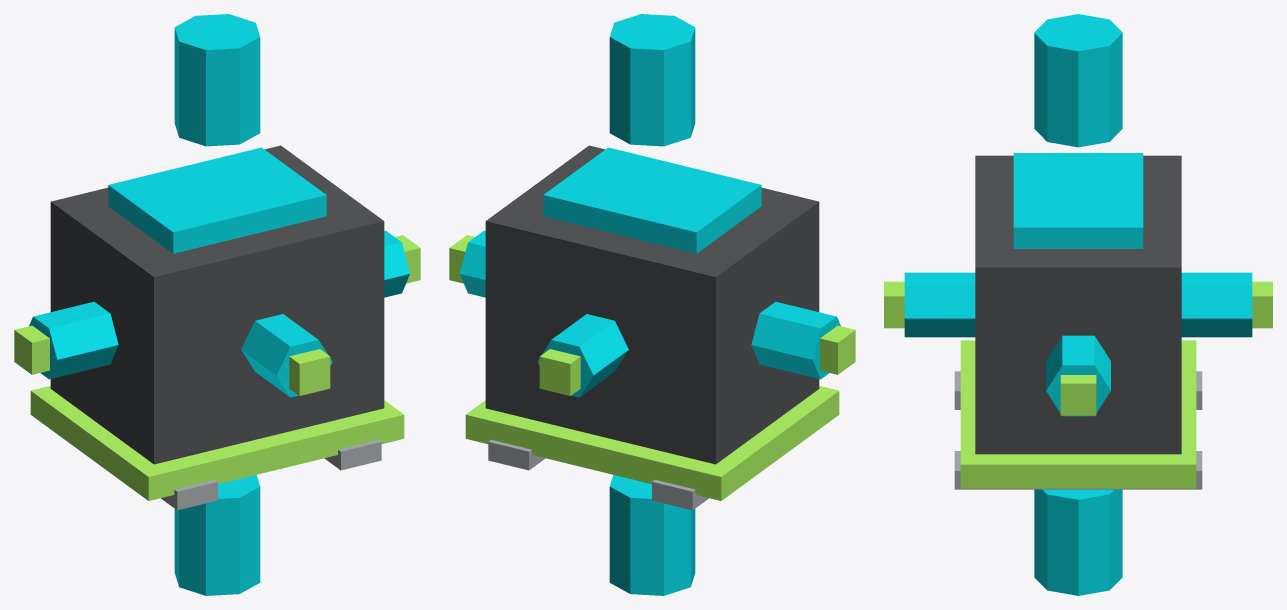
Rendered from rcs_pod_4way_mk1.glb.
3 views of the same model, side by side, from view 1: azimuth 30°, elevation 25°; view 2: azimuth 150°, elevation 25°; view 3: azimuth 270°, elevation 25° (orthographic).
Parts seen in each view (by area): view 1: GEO_RCS_Pod_Body, GEO_RCS_Pod_Cyan_Top, GEO_RCS_Pod_Blank_MountPlate_Underside, GEO_RCS_Nozzle_Up, GEO_RCS_Nozzle_Down, GEO_RCS_Nozzle_Left, GEO_RCS_Nozzle_Back, VIS_PART_RCS_Pod_4Way_Mk1_RCS_NOZZLE_BACK, VIS_PART_RCS_Pod_4Way_Mk1_RCS_NOZZLE_LEFT, GEO_RCS_Nozzle_Right, GEO_RCS_Pod_Mount_Rails_ForeAft_R, GEO_RCS_Pod_Mount_Rails_ForeAft (+1 smaller); view 2: GEO_RCS_Pod_Body, GEO_RCS_Pod_Cyan_Top, GEO_RCS_Pod_Blank_MountPlate_Underside, GEO_RCS_Nozzle_Up, GEO_RCS_Nozzle_Down, GEO_RCS_Nozzle_Left, GEO_RCS_Nozzle_Forward, VIS_PART_RCS_Pod_4Way_Mk1_RCS_NOZZLE_FORWARD, VIS_PART_RCS_Pod_4Way_Mk1_RCS_NOZZLE_LEFT, GEO_RCS_Nozzle_Right, GEO_RCS_Pod_Mount_Rails_ForeAft_R, GEO_RCS_Pod_Mount_Rails_ForeAft (+1 smaller); view 3: GEO_RCS_Pod_Body, GEO_RCS_Pod_Cyan_Top, GEO_RCS_Pod_Blank_MountPlate_Underside, GEO_RCS_Nozzle_Up, GEO_RCS_Nozzle_Down, GEO_RCS_Nozzle_Back, GEO_RCS_Nozzle_Forward, GEO_RCS_Nozzle_Right, VIS_PART_RCS_Pod_4Way_Mk1_RCS_NOZZLE_RIGHT, GEO_RCS_Pod_Mount_Rails_ForeAft_R, VIS_PART_RCS_Pod_4Way_Mk1_RCS_NOZZLE_BACK, VIS_PART_RCS_Pod_4Way_Mk1_RCS_NOZZLE_FORWARD (+1 smaller).
Part boxes in pixels (bbox=[...]): GEO_RCS_Pod_Body: bbox=[50, 145, 384, 464]; GEO_RCS_Pod_Cyan_Top: bbox=[108, 147, 326, 253]; GEO_RCS_Pod_Blank_MountPlate_Underside: bbox=[30, 386, 404, 500]; GEO_RCS_Nozzle_Up: bbox=[174, 14, 260, 146]; GEO_RCS_Nozzle_Down: bbox=[174, 475, 260, 595]; GEO_RCS_Nozzle_Left: bbox=[29, 301, 118, 379]; GEO_RCS_Nozzle_Back: bbox=[241, 314, 332, 397]; VIS_PART_RCS_Pod_4Way_Mk1_RCS_NOZZLE_BACK: bbox=[289, 349, 330, 395]; VIS_PART_RCS_Pod_4Way_Mk1_RCS_NOZZLE_LEFT: bbox=[14, 325, 49, 374]; GEO_RCS_Nozzle_Right: bbox=[384, 230, 409, 297]; GEO_RCS_Pod_Mount_Rails_ForeAft_R: bbox=[324, 439, 381, 470]; GEO_RCS_Pod_Mount_Rails_ForeAft: bbox=[161, 479, 217, 510]; GEO_RCS_Pod_Body: bbox=[485, 145, 819, 464]; GEO_RCS_Pod_Cyan_Top: bbox=[543, 147, 761, 253]; GEO_RCS_Pod_Blank_MountPlate_Underside: bbox=[465, 386, 839, 500]; GEO_RCS_Nozzle_Up: bbox=[609, 14, 695, 146]; GEO_RCS_Nozzle_Down: bbox=[609, 475, 695, 595]; GEO_RCS_Nozzle_Left: bbox=[751, 301, 840, 379]; GEO_RCS_Nozzle_Forward: bbox=[537, 314, 628, 397]; VIS_PART_RCS_Pod_4Way_Mk1_RCS_NOZZLE_FORWARD: bbox=[539, 349, 580, 395]; VIS_PART_RCS_Pod_4Way_Mk1_RCS_NOZZLE_LEFT: bbox=[820, 325, 855, 374]; GEO_RCS_Nozzle_Right: bbox=[460, 230, 485, 297]; GEO_RCS_Pod_Mount_Rails_ForeAft_R: bbox=[488, 439, 545, 470]; GEO_RCS_Pod_Mount_Rails_ForeAft: bbox=[652, 479, 708, 510]; GEO_RCS_Pod_Body: bbox=[975, 155, 1181, 454]; GEO_RCS_Pod_Cyan_Top: bbox=[1013, 153, 1143, 248]; GEO_RCS_Pod_Blank_MountPlate_Underside: bbox=[960, 340, 1196, 488]; GEO_RCS_Nozzle_Up: bbox=[1034, 14, 1122, 147]; GEO_RCS_Nozzle_Down: bbox=[1034, 489, 1122, 595]; GEO_RCS_Nozzle_Back: bbox=[904, 272, 975, 337]; GEO_RCS_Nozzle_Forward: bbox=[1181, 272, 1252, 337]; GEO_RCS_Nozzle_Right: bbox=[1046, 335, 1110, 416]; VIS_PART_RCS_Pod_4Way_Mk1_RCS_NOZZLE_RIGHT: bbox=[1060, 375, 1096, 415]; GEO_RCS_Pod_Mount_Rails_ForeAft_R: bbox=[954, 451, 1202, 489]; VIS_PART_RCS_Pod_4Way_Mk1_RCS_NOZZLE_BACK: bbox=[884, 281, 904, 328]; VIS_PART_RCS_Pod_4Way_Mk1_RCS_NOZZLE_FORWARD: bbox=[1252, 281, 1272, 328].
Size of the model in its own units: 0.76 by 1.02 by 0.66.
